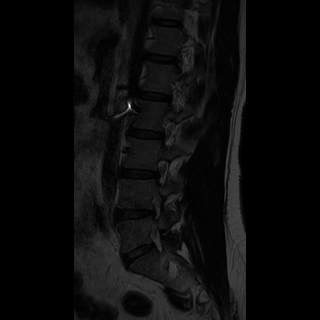RFS0: (146, 153, 173, 188)
